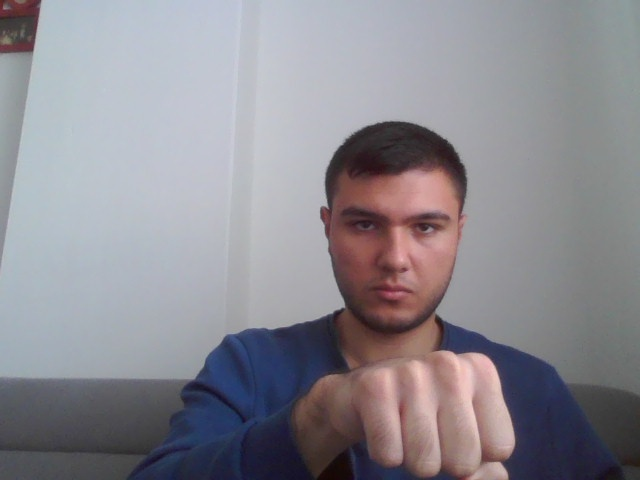yes: (339, 347, 519, 480)
